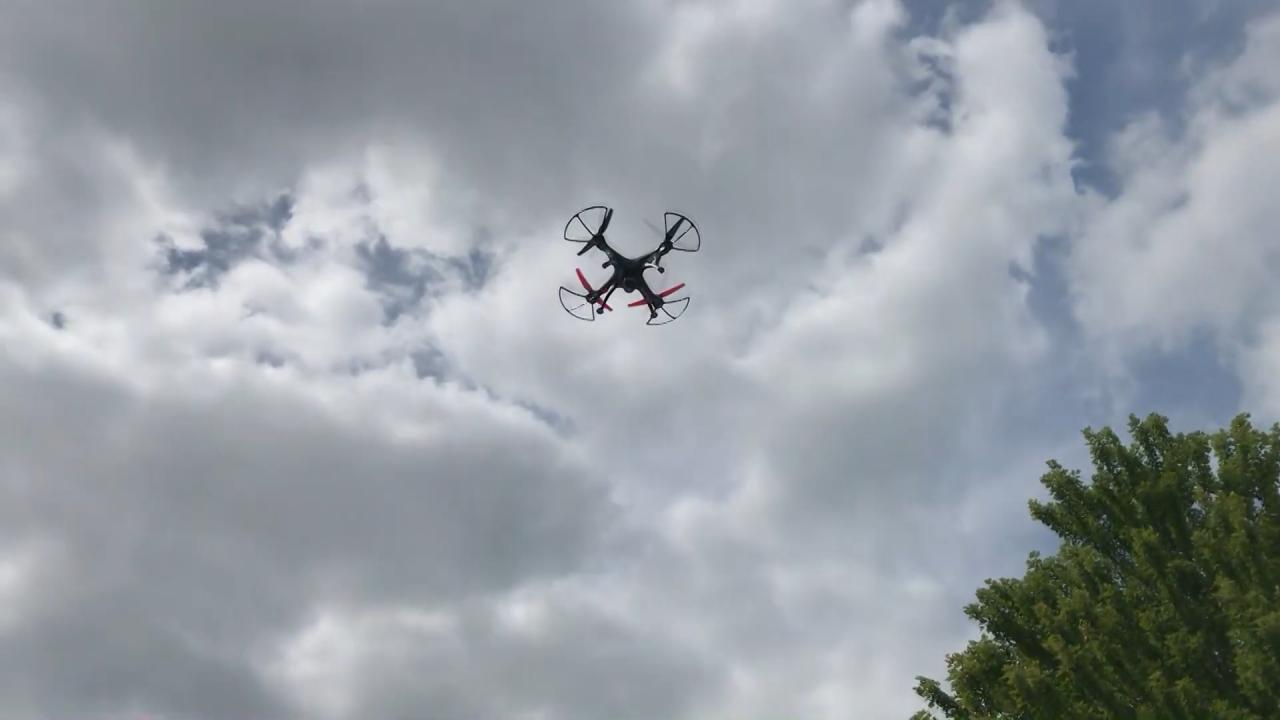Drone: (545, 194, 709, 340)
